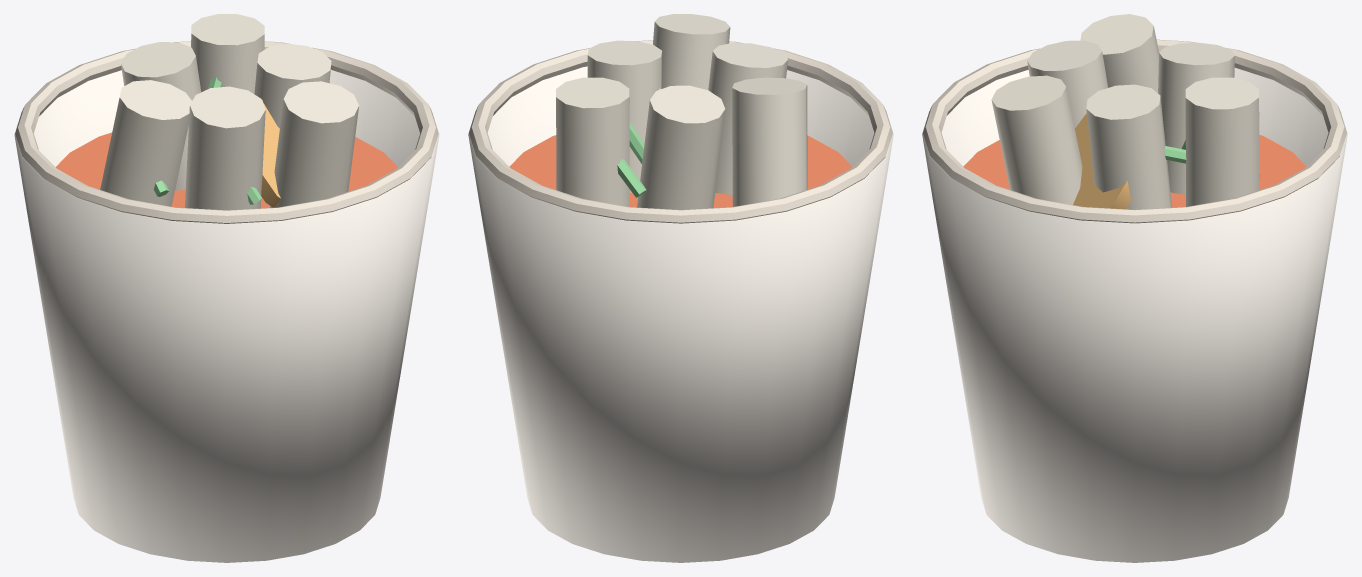
File: tteokbokki-cup.glb
3 views of the same model, side by side, from view 1: azimuth 30°, elevation 25°; view 2: azimuth 150°, elevation 25°; view 3: azimuth 270°, elevation 25° (orthographic).
Parts seen in each view (by area): view 1: tteokbokki_cup; view 2: tteokbokki_cup; view 3: tteokbokki_cup.
Boxes of the visible parts, x1=… form: tteokbokki_cup: x1=14, y1=14, x2=439, y2=562; tteokbokki_cup: x1=468, y1=14, x2=893, y2=562; tteokbokki_cup: x1=922, y1=14, x2=1347, y2=562.
Size of the model in its own units: 0.1007 by 0.1127 by 0.1007.
